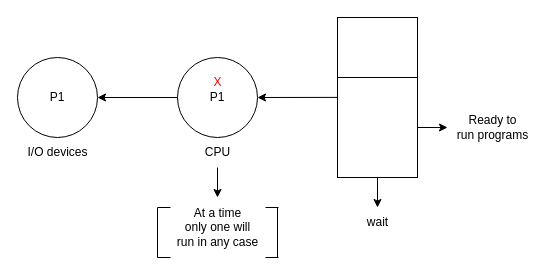
Some shapes in this 555 by 276 pixel diagram are drawn without their labels. Each missing label, with the centre of its shape:
Operating System: point (377, 47)
P1, P2, P3, ..., Pn: point (377, 127)
